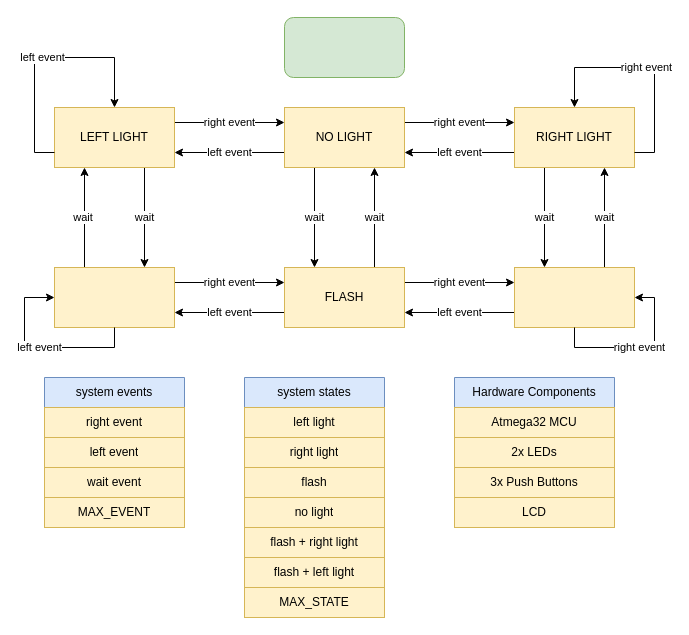
This 689x635 diagram has some shape labels left out. The shapes that lost their labels are listed below. From the top down, each one's centre as x and y in pixels, then its label:
point 344,47: CAR SIGNAL
point 114,297: FLASH+LEFT LIGHT
point 574,297: FALSH+RIGHT LIGHT
